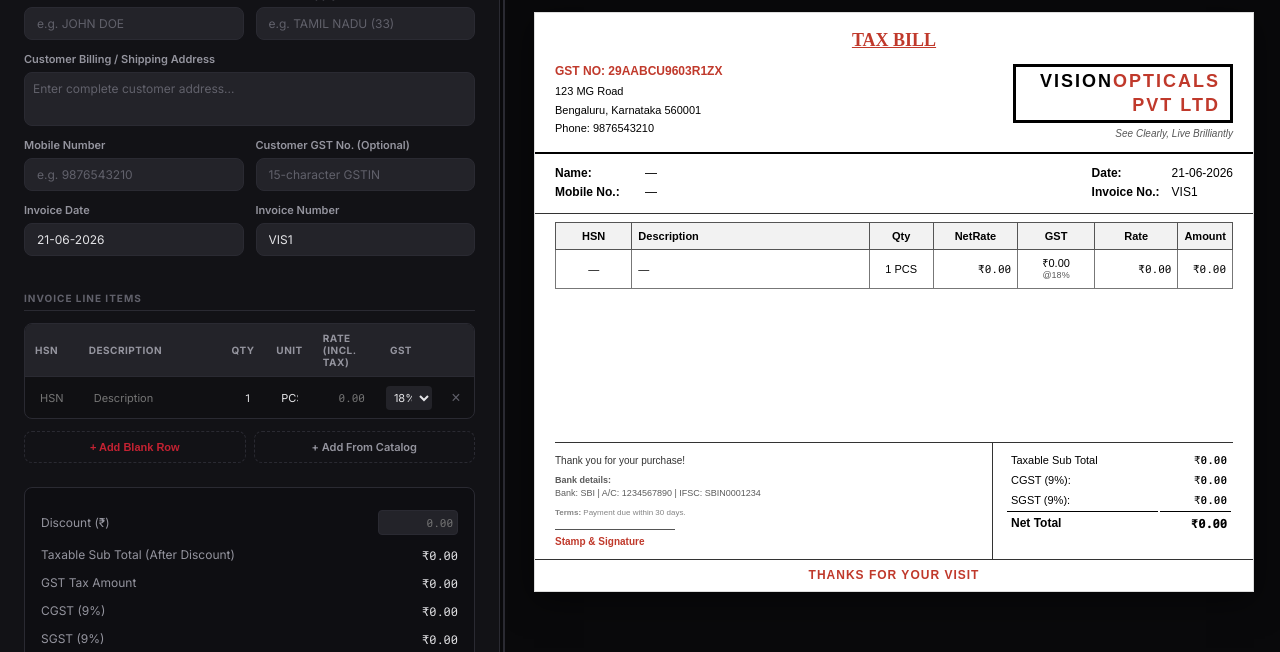
Test: InvoiceEditor — Live Totals & Form › C1: entering netRate=100 shows grand total of ₹100.00
Type "100" into the number field with placeholder "0.00" below "Unit" at (346, 398), box [319,383,374,412]
(page scrolled)
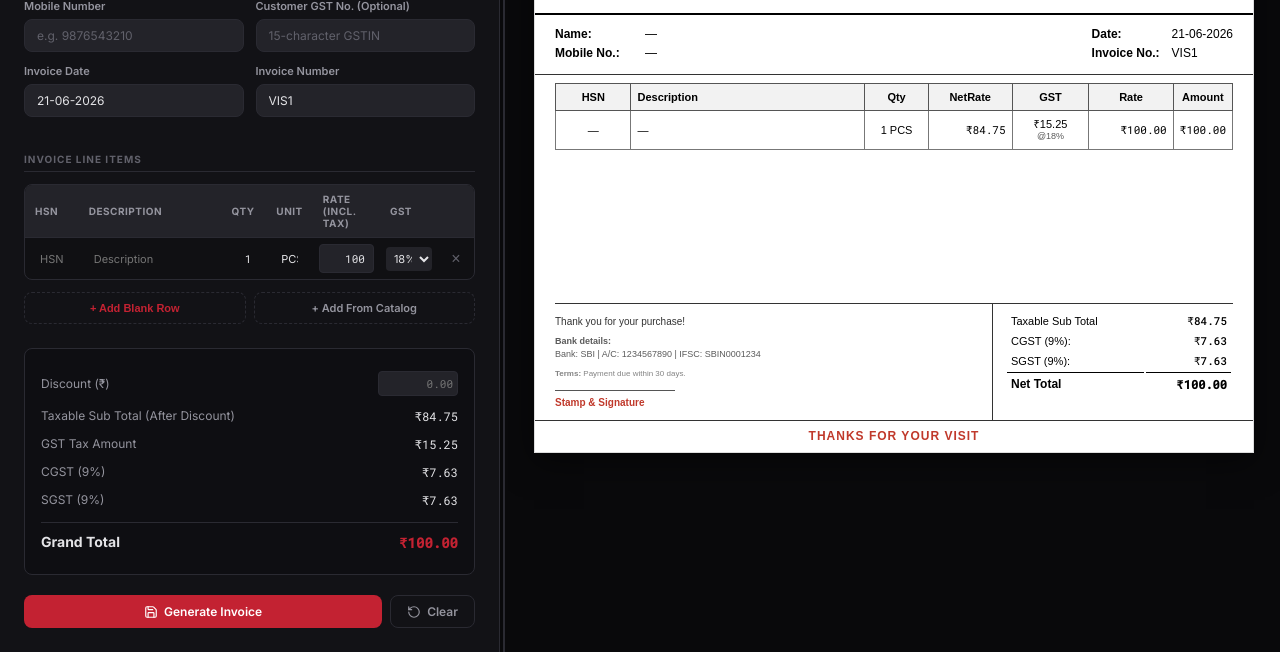
Expected: the text "Grand Total ₹100.00" is shown, [41,522,458,558]
